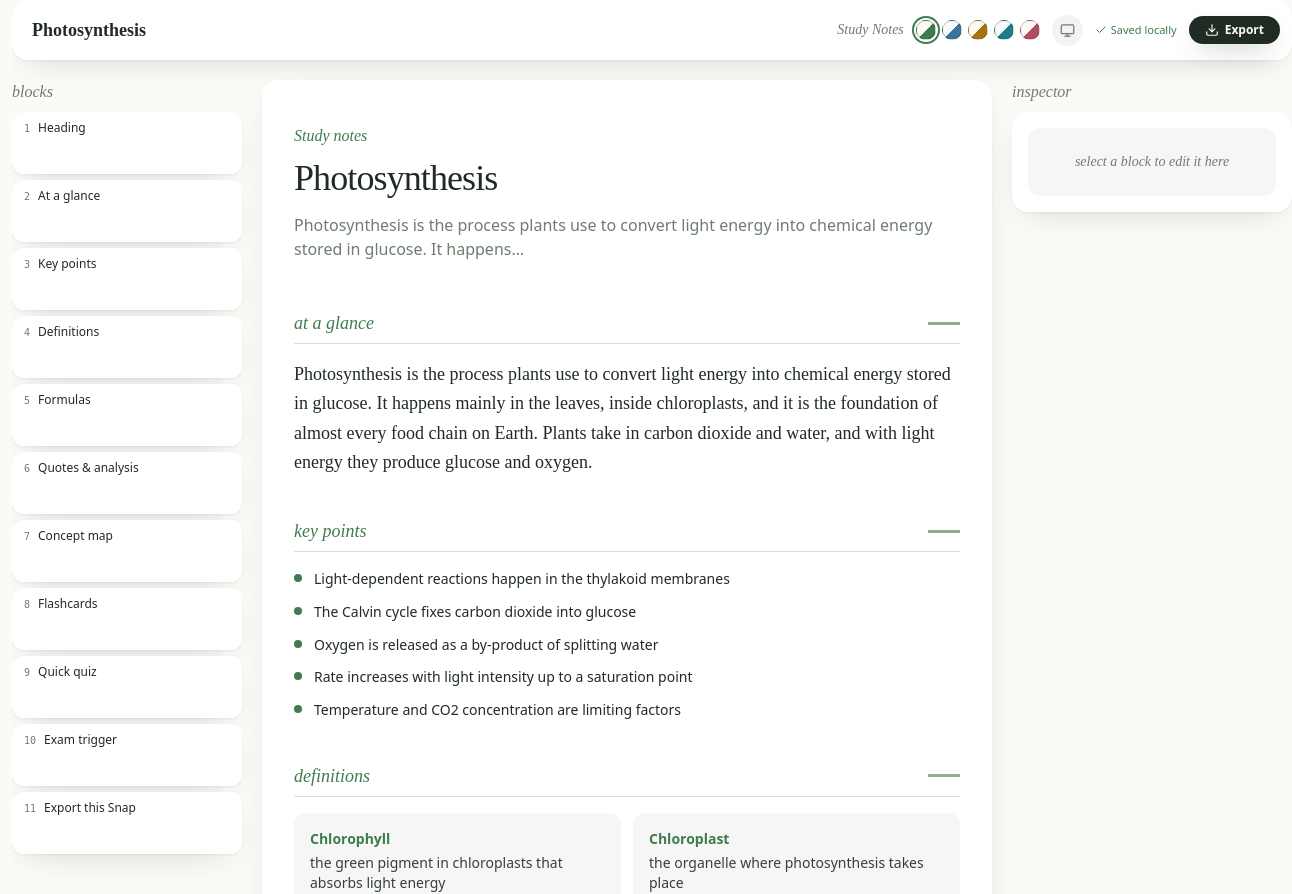
Test: Editor › renders blocks after the skeleton and supports editing
Check: the heading "Photosynthesis" is shown, box [294,158,497,198]
Note: Select the summary block from the sidebar and edit it.
Click the text "At a glance" at (69, 196), box [38,188,100,204]
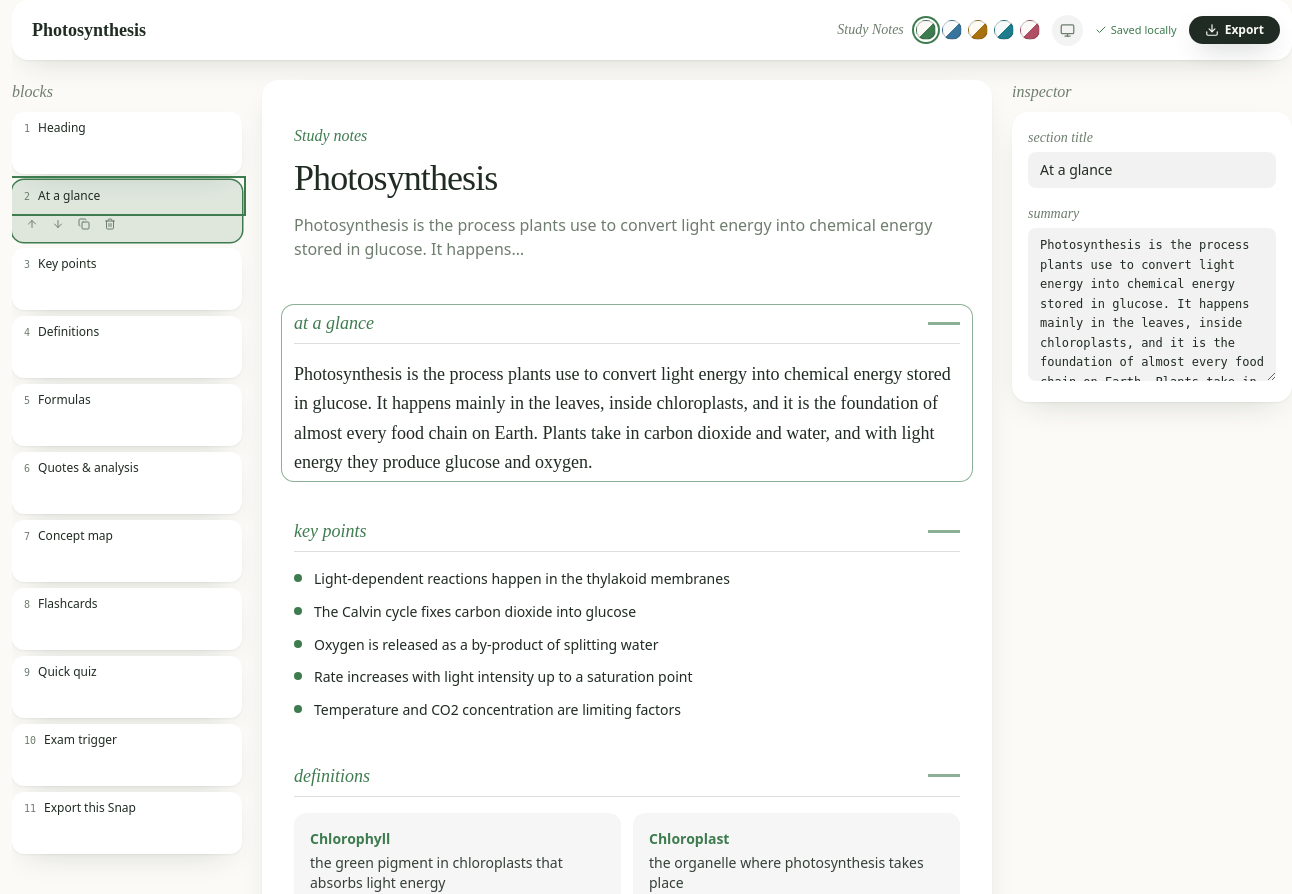
Replace the text in the text box labelled "summary" with "A fresh edited summary." at (1152, 304), box [1028,228,1276,380]
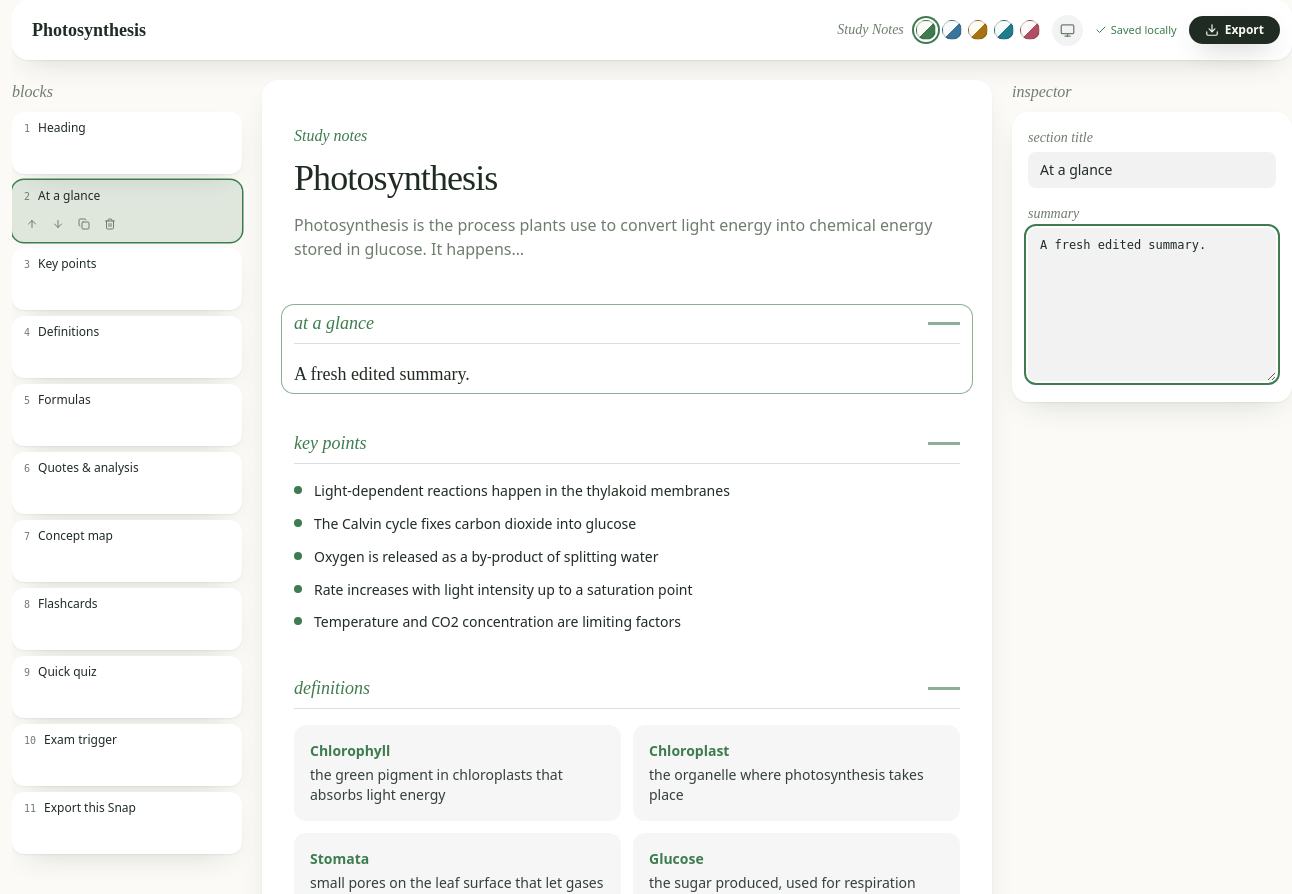
Check: the text "A fresh edited summary." is shown, box [294,364,470,384]
